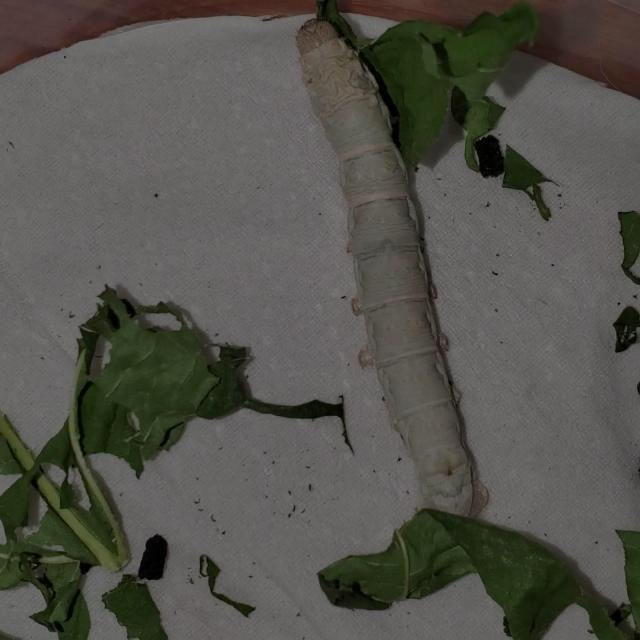Healthy: (289, 13, 487, 520)
